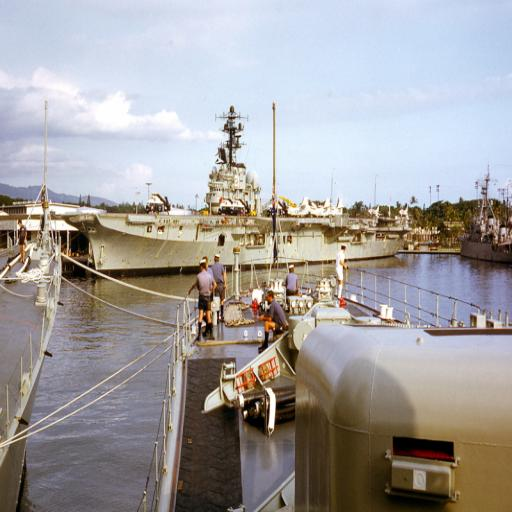Portanaves: (61, 86, 413, 280)
